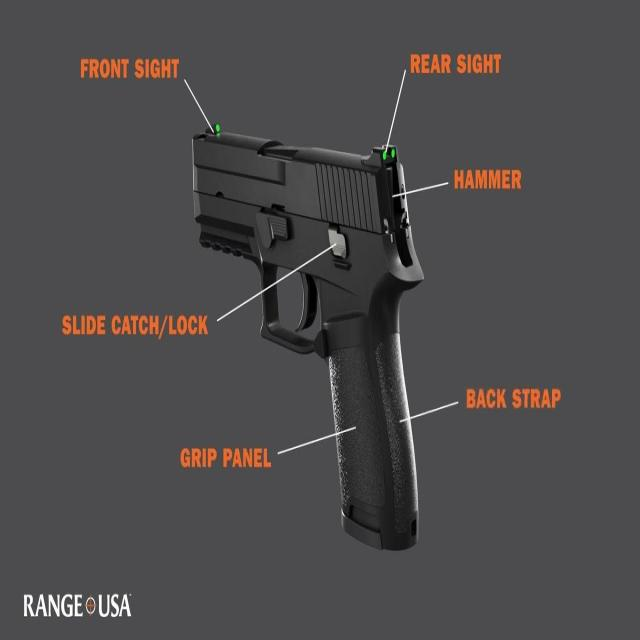weapon: (188, 108, 430, 562)
